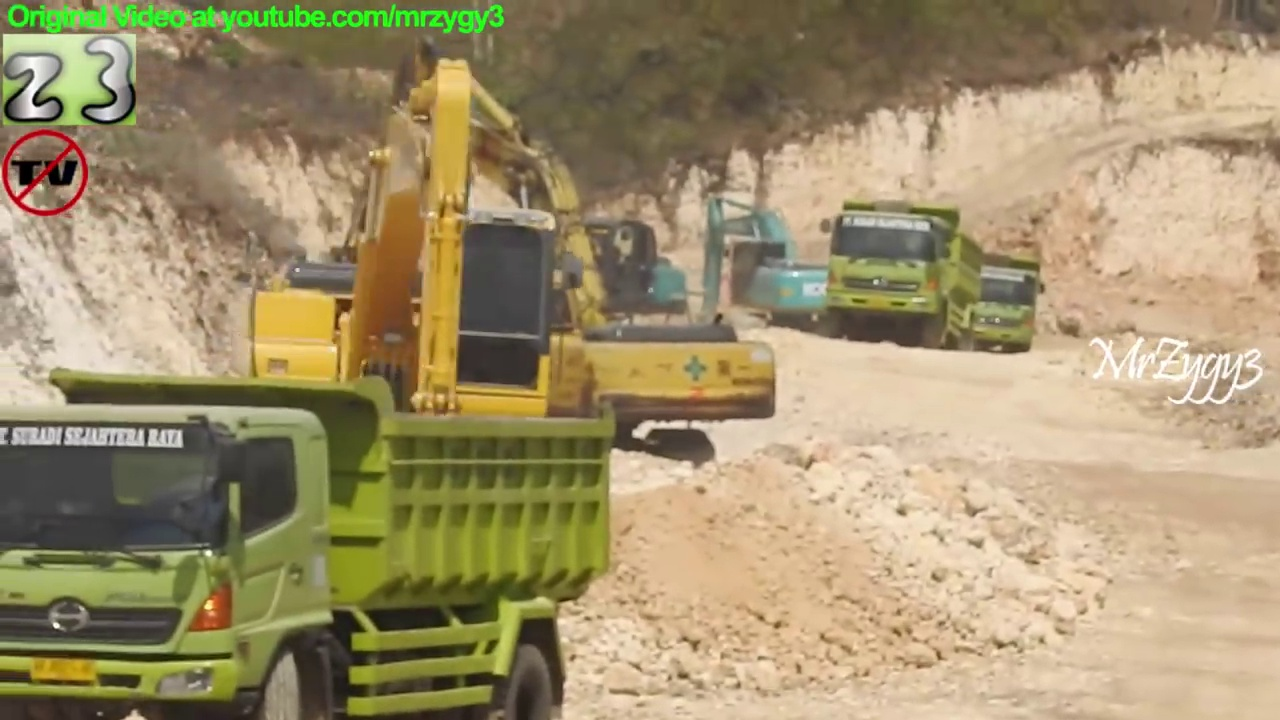excavator: (223, 50, 660, 602), (316, 37, 779, 490), (454, 126, 692, 355), (691, 192, 844, 344)
truck: (1, 365, 623, 720), (819, 192, 989, 355), (931, 247, 1053, 359)
